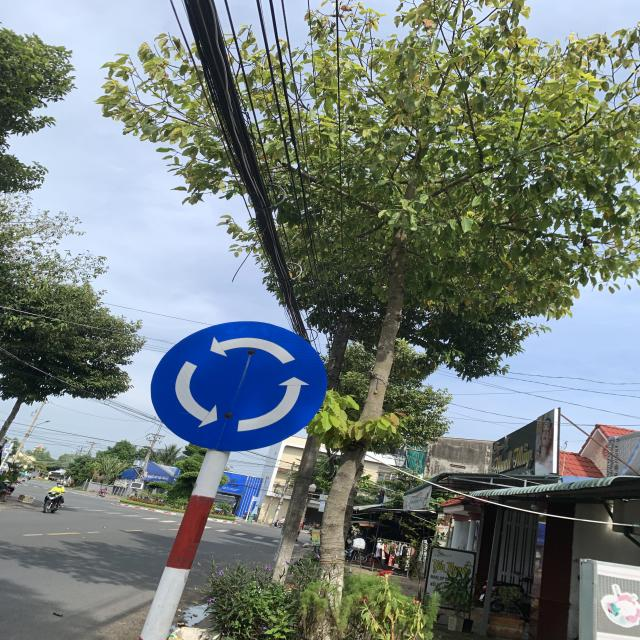Xe_Bus: (150, 321, 328, 452)
